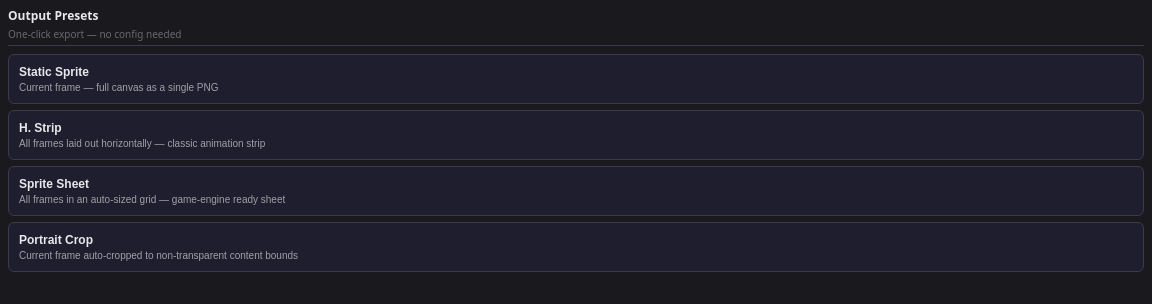
Scenario: OutputPresetsPanel › shows success result after export
Click the button with test id "preset-btn-static_sprite": x=54, y=72 [8,54,1144,104]
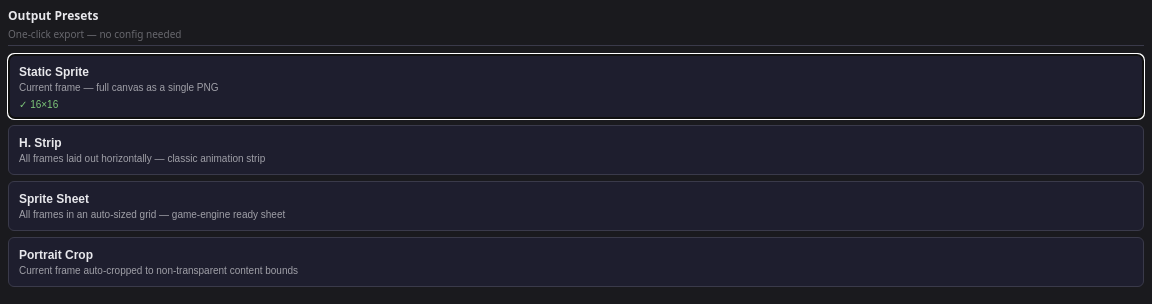
Now the text with test id "preset-result-static_sprite" shows "16×16", box [19,99,58,110]
